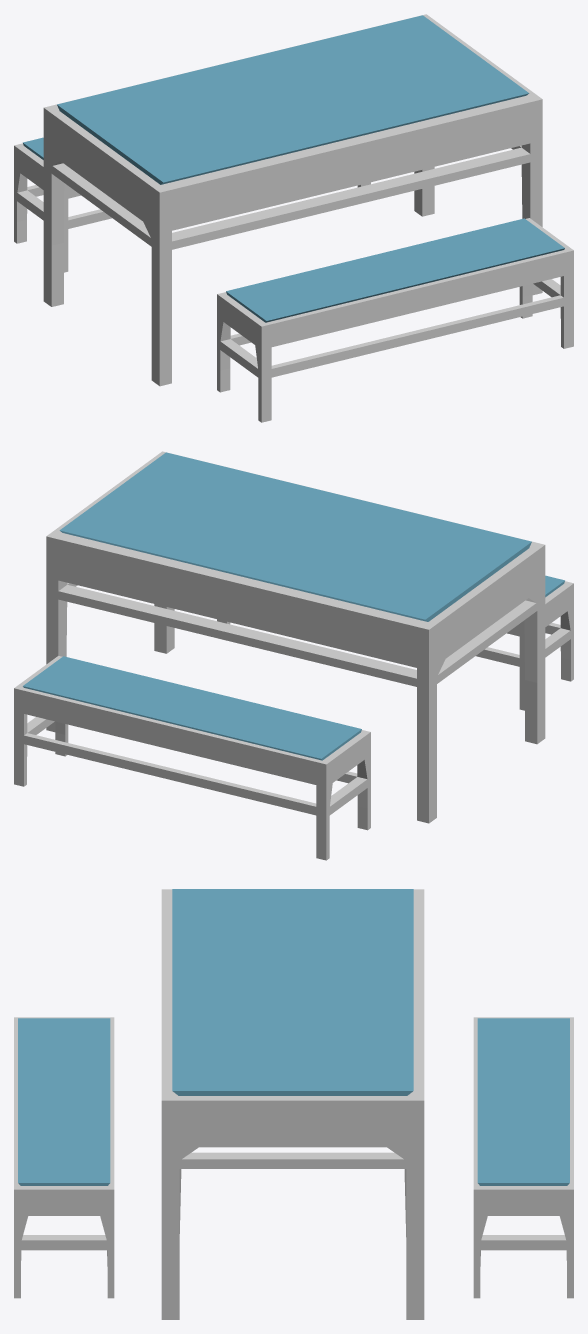
Rendered from Table_Chair.fbx.
The picture shows the model from 3 angles, top to bottom: view 1: azimuth 30°, elevation 25°; view 2: azimuth 150°, elevation 25°; view 3: azimuth 270°, elevation 25°; orthographic projection. The views are drawn at different scales.
Parts seen in each view (by area): view 1: Cube.005; view 2: Cube.005; view 3: Cube.005.
Part boxes in pixels (box(x1,y1,x2,y2)): Cube.005: box(14, 14, 573, 422); Cube.005: box(14, 451, 573, 860); Cube.005: box(14, 889, 573, 1319).
Size of the model in its own units: 1391 by 688 by 1558.
